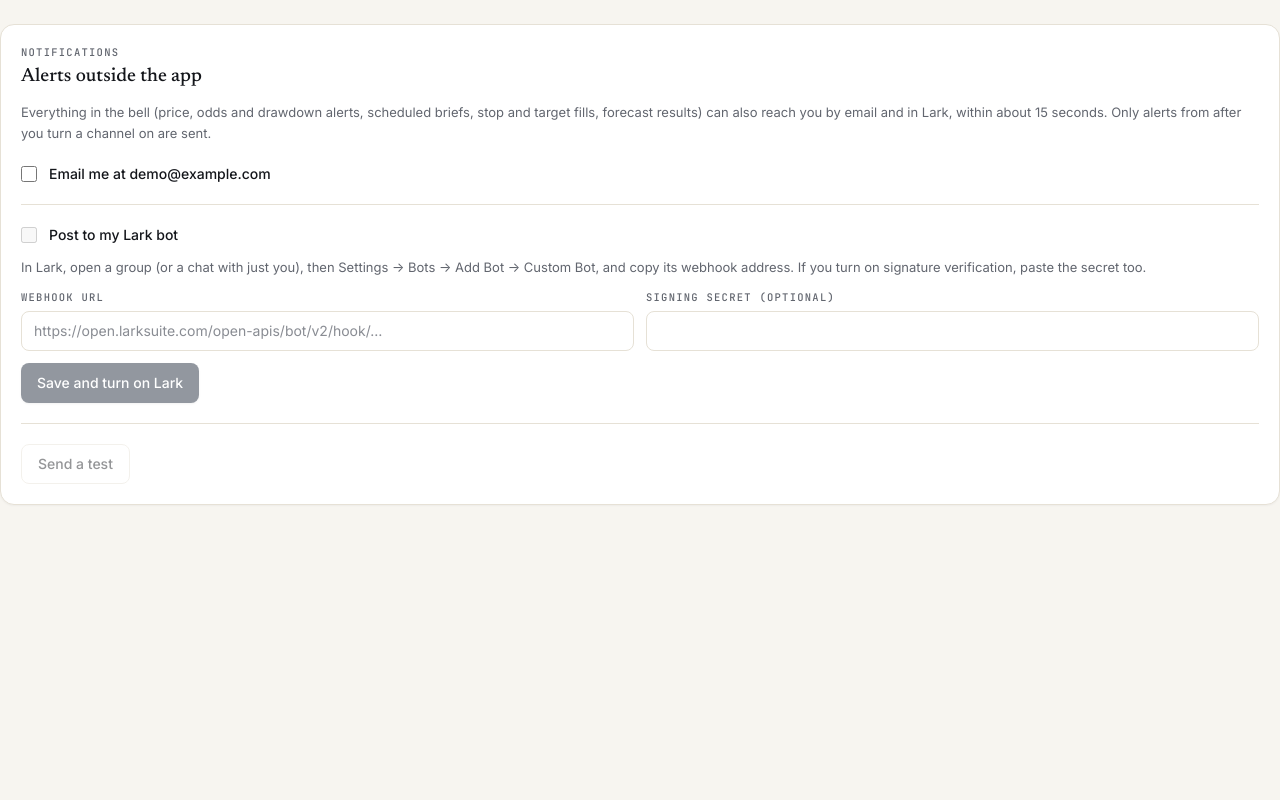
it: Account notifications › saves a Lark bot with its secret, shows it masked, and refuses a foreign URL without a request
Expected: the checkbox labelled "Post to my Lark bot" is disabled, [21,227,37,243]
Type "https://evil.example/hook" into the field labelled "Webhook URL" at x=328, y=331, box [21,311,634,351]
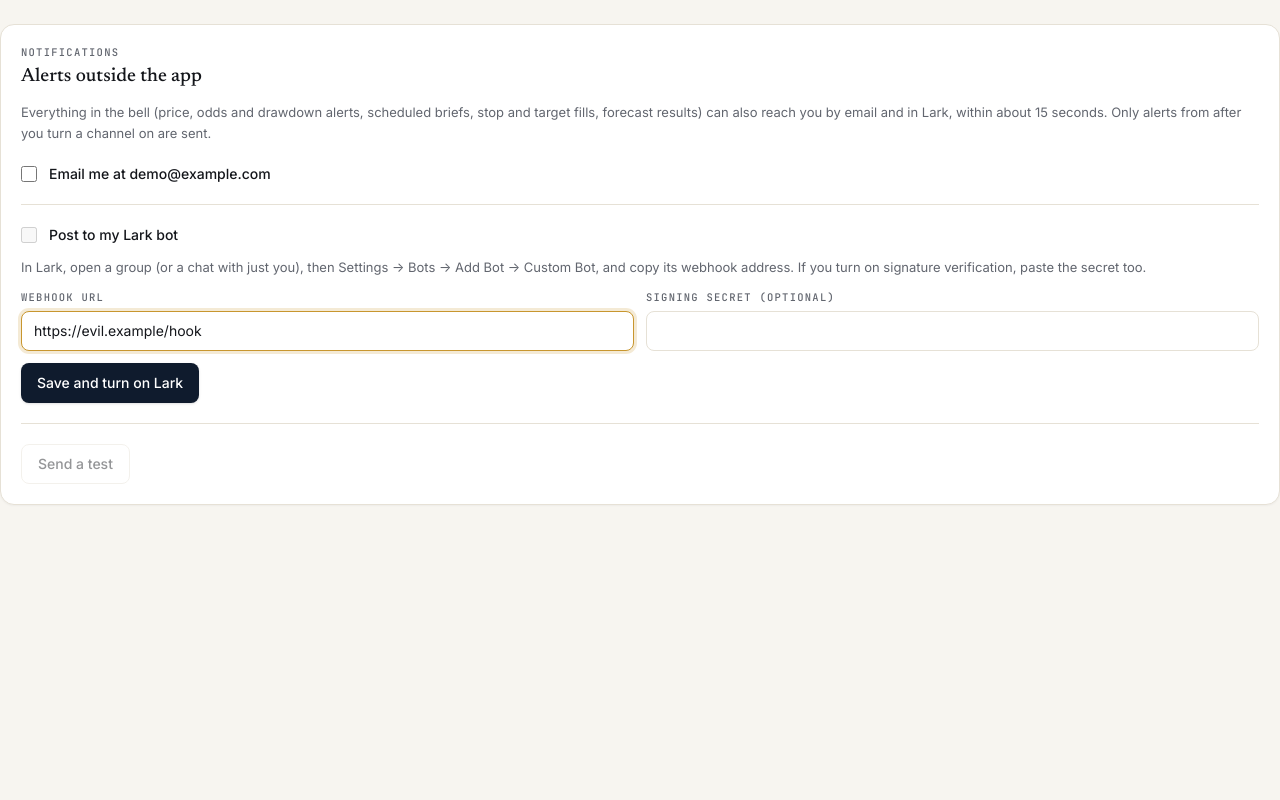
Click the button "Save and turn on Lark" at x=110, y=383, box [21,363,199,403]
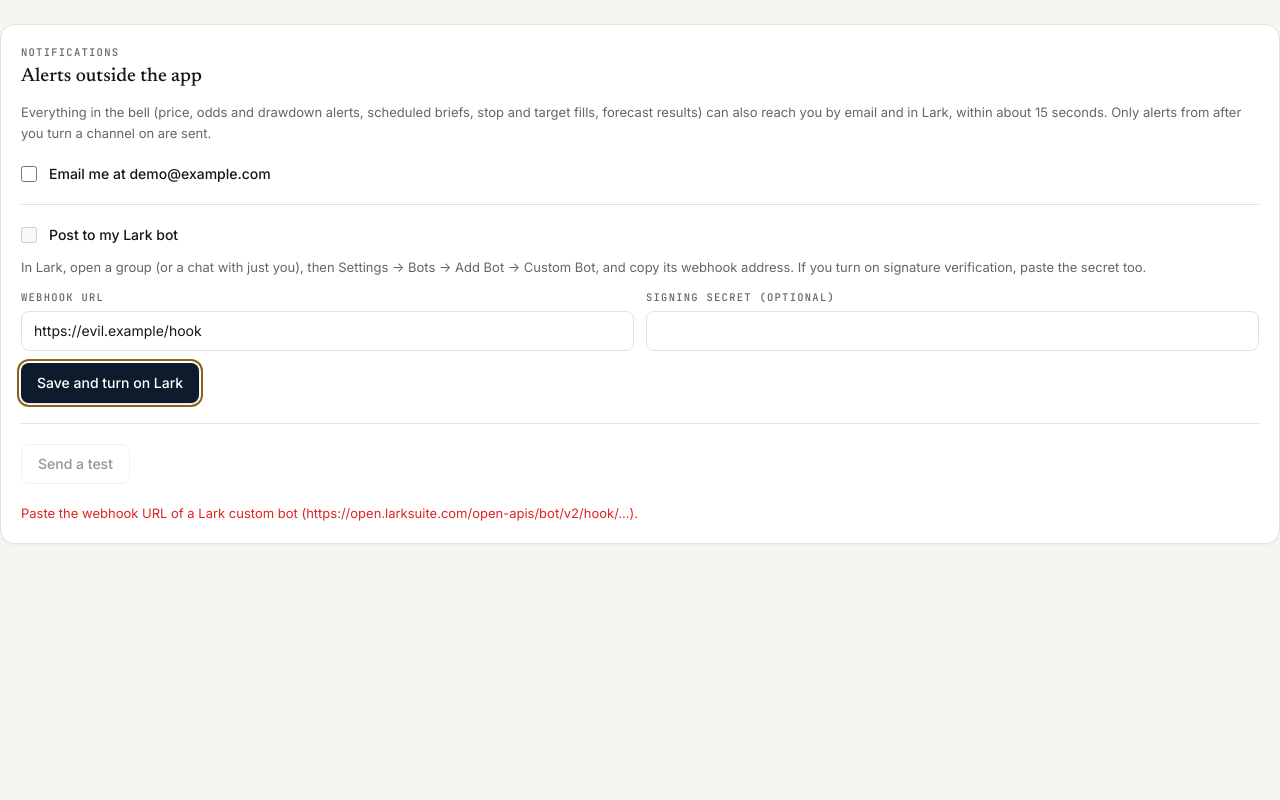
Expected: the message shows "Lark custom bot", [21,505,638,521]
Replace the text in the field labelled "Webhook URL" with "https://open.larksuite.com/open-apis/bot/v2/hook/0a1b2c3d-4e5f" at x=328, y=331, box [21,311,634,351]
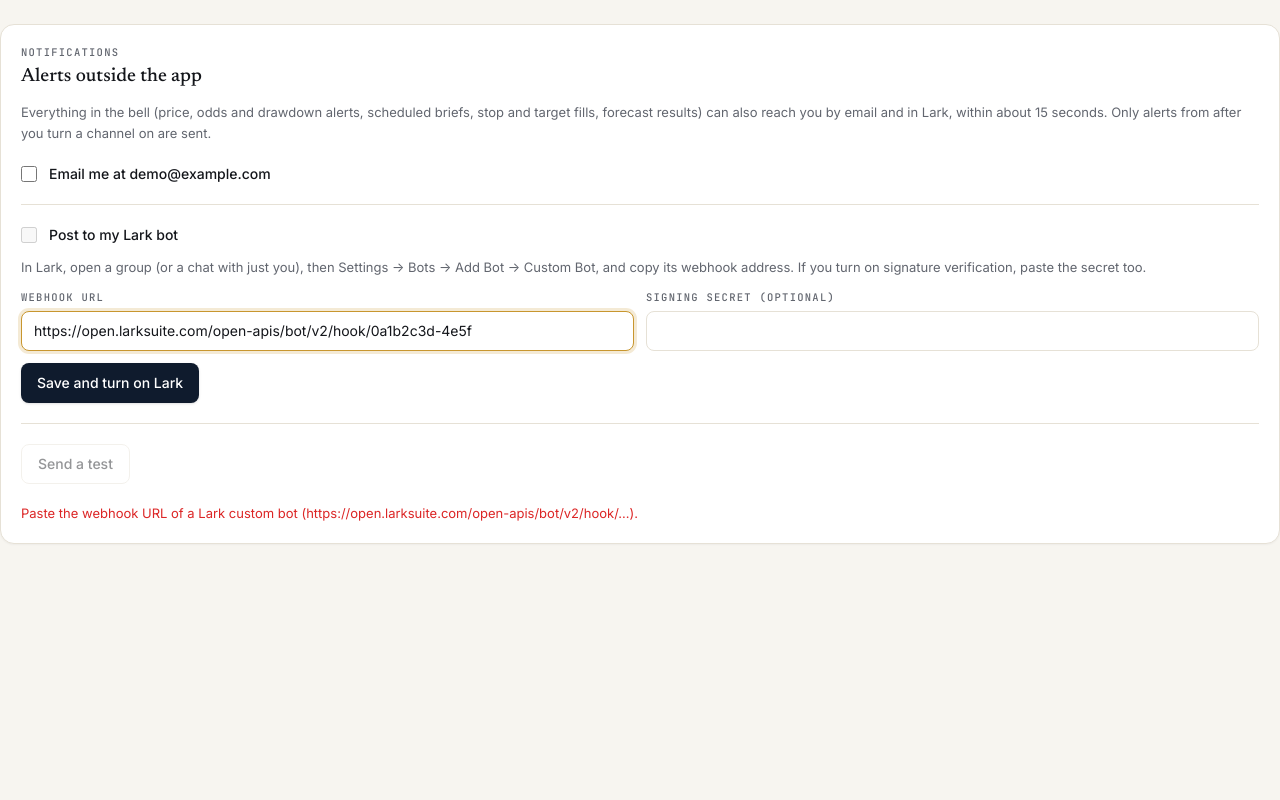
Type "s3cret" into the password field labelled "Signing secret (optional)" at x=952, y=331, box [646,311,1259,351]
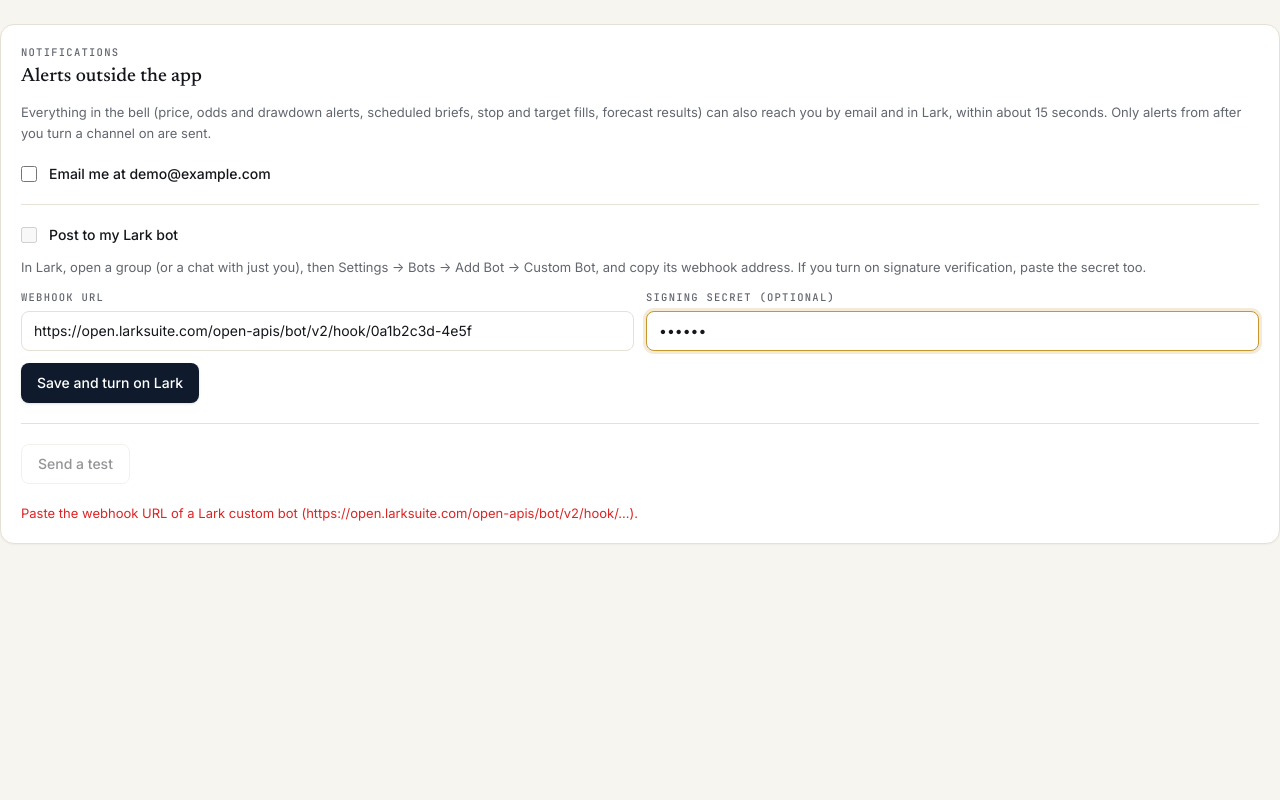
Click the button "Save and turn on Lark" at x=110, y=383, box [21,363,199,403]
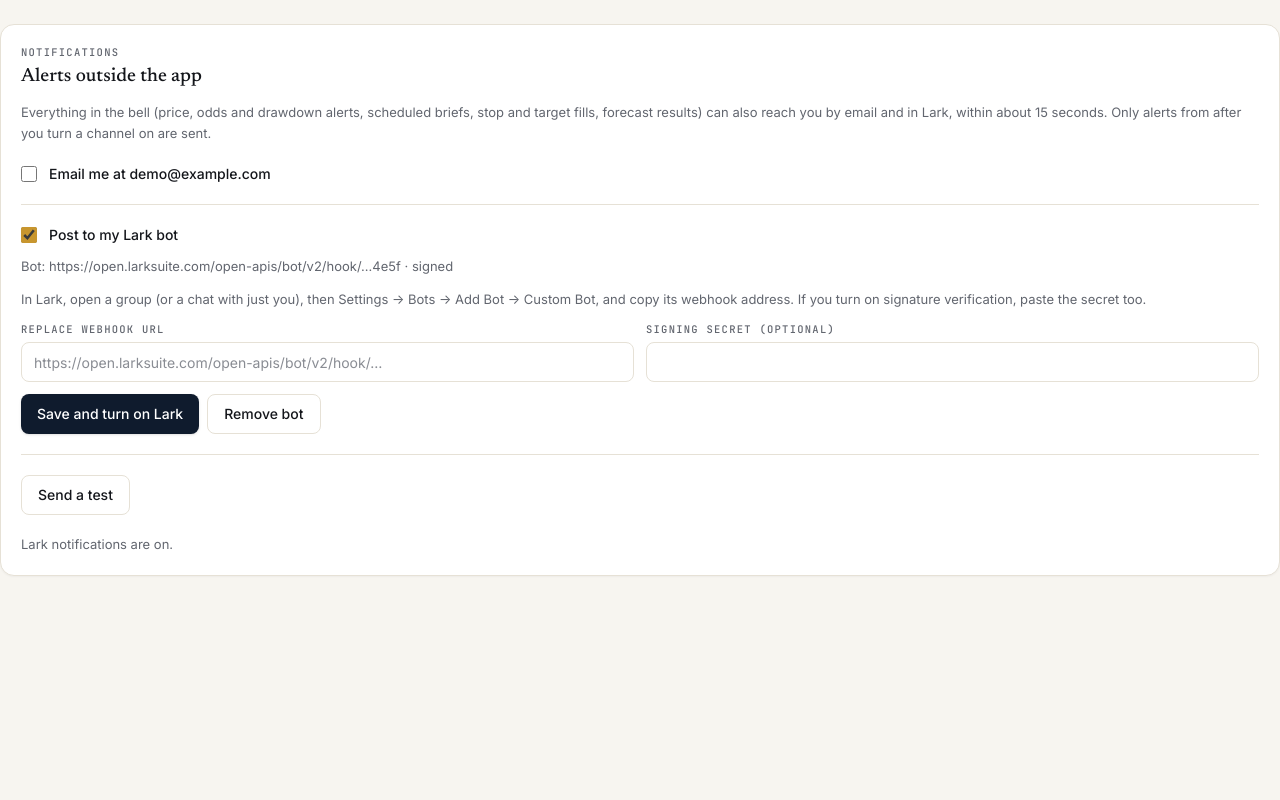
Expected: the checkbox labelled "Post to my Lark bot" is checked, [21,227,37,243]
